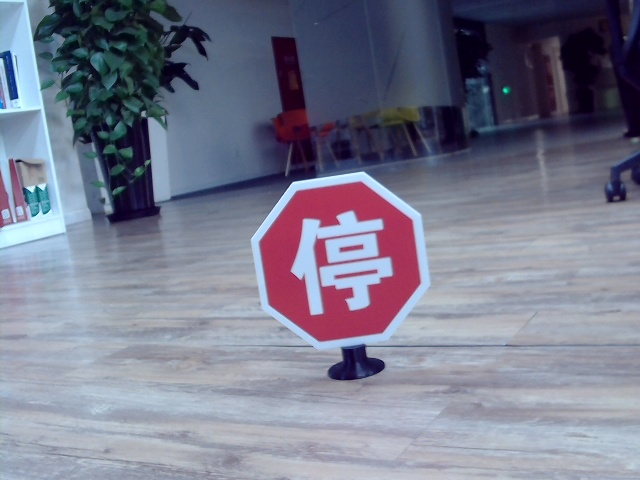stop: (286, 214, 404, 316)
